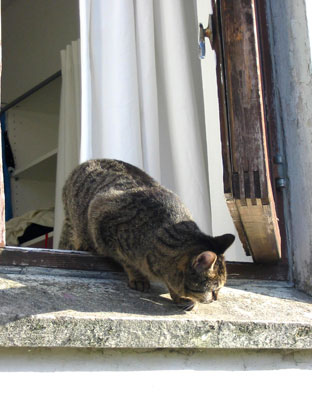cat: (58, 156, 241, 313)
